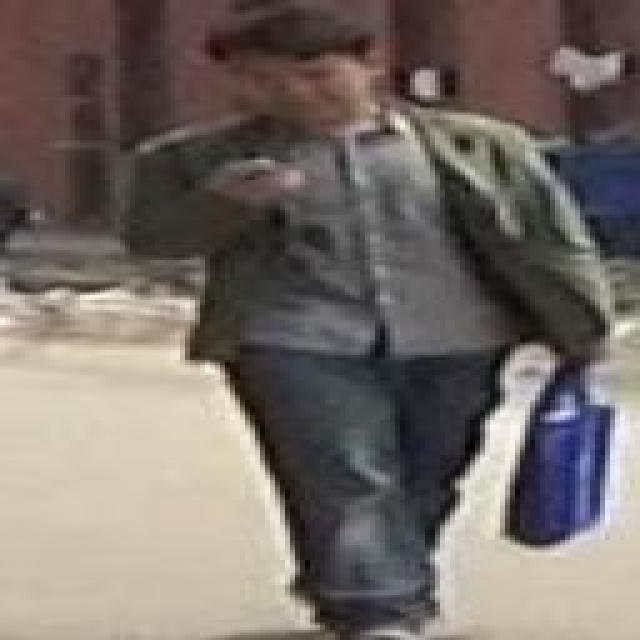adult: (117, 9, 583, 632)
